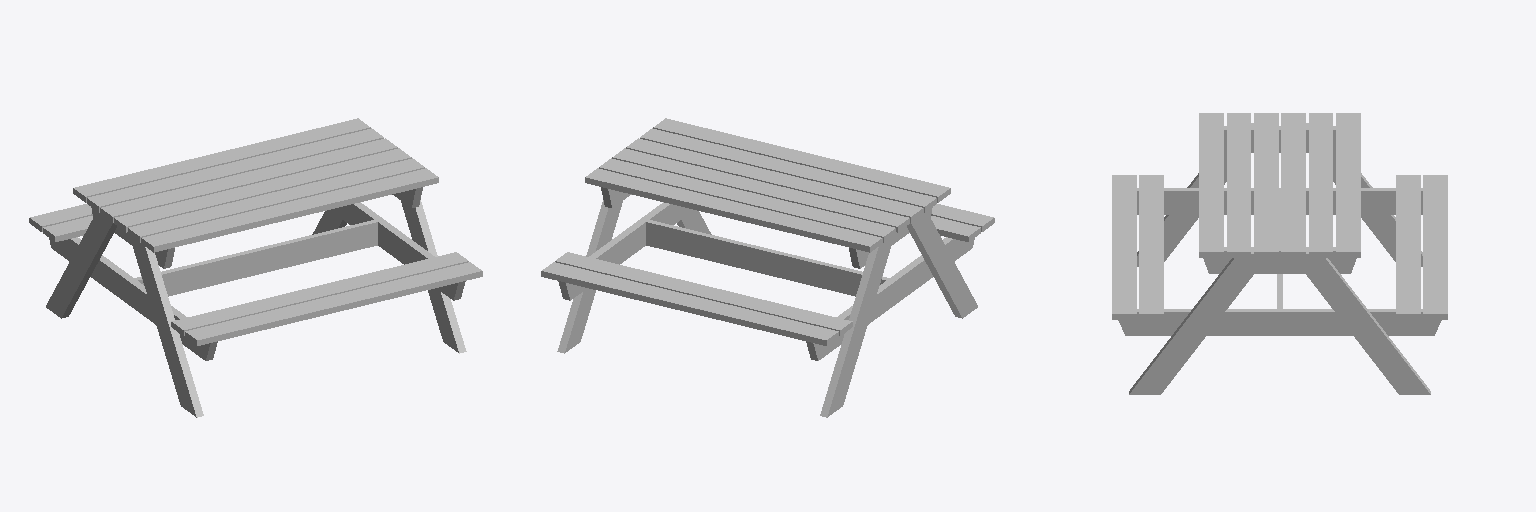
File: picnic.obj
The picture shows the model from 3 angles: view 1: azimuth 30°, elevation 25°; view 2: azimuth 150°, elevation 25°; view 3: azimuth 270°, elevation 25°; orthographic projection.
Parts seen in each view (by area): view 1: PicnicTable_Picnic_Table_0_PicnicTable_Picnic_Table_0.001_Picnic; view 2: PicnicTable_Picnic_Table_0_PicnicTable_Picnic_Table_0.001_Picnic; view 3: PicnicTable_Picnic_Table_0_PicnicTable_Picnic_Table_0.001_Picnic.
Part boxes in pixels (x1,y1,x2,y2): PicnicTable_Picnic_Table_0_PicnicTable_Picnic_Table_0.001_Picnic: (29,118,482,417); PicnicTable_Picnic_Table_0_PicnicTable_Picnic_Table_0.001_Picnic: (541,118,994,417); PicnicTable_Picnic_Table_0_PicnicTable_Picnic_Table_0.001_Picnic: (1112,113,1447,394).
Size of the model in its own units: 1.57 by 0.7733 by 1.6.